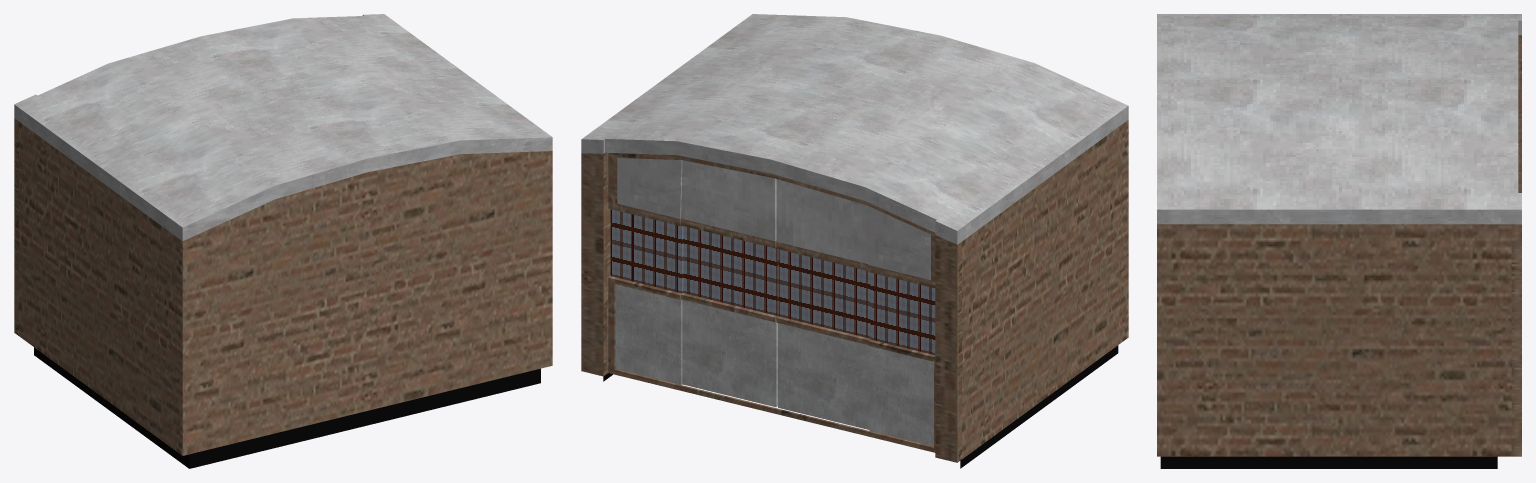
Rendered from WareHouse.fbx.
The picture shows the model from 3 angles, left to right: view 1: azimuth 30°, elevation 25°; view 2: azimuth 150°, elevation 25°; view 3: azimuth 270°, elevation 25°; orthographic projection. The views are drawn at different scales.
Parts seen in each view (by area): view 1: WareHouse; view 2: WareHouse, WareHouse_Door2, WareHouse_Door1; view 3: WareHouse.
Boxes of the visible parts, box(x1,y1,x2,y2) form: WareHouse: box(14, 14, 552, 468); WareHouse: box(581, 14, 1128, 468); WareHouse_Door2: box(681, 160, 778, 407); WareHouse_Door1: box(776, 179, 870, 429); WareHouse: box(1157, 14, 1521, 468).
Size of the model in its own units: 2542 by 1763 by 2004.
